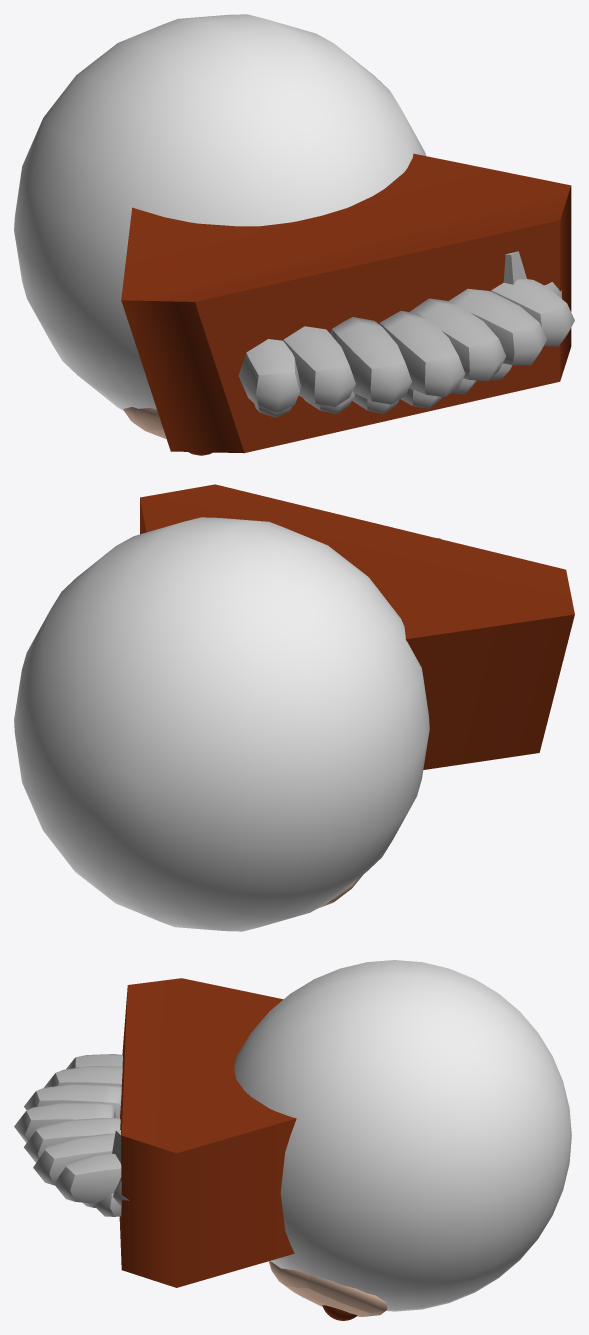
File: bolitas72.fbx
3 views of the same model, one above another, from view 1: azimuth 30°, elevation 25°; view 2: azimuth 150°, elevation 25°; view 3: azimuth 270°, elevation 25° (orthographic). The views are drawn at different scales.
Visible parts, largest first — view 1: pasted__pSphere16, pasted__pCube13, pasted__pasted__pasted__pasted__pasted__pasted__pCube11, pasted__pasted__pasted__pasted__pasted__pasted__pasted__pCub, pasted__pasted__pasted__pasted__pasted__pCube13, pasted__pasted__pasted__pasted__pasted__pasted__pasted__d67c, pasted__pasted__pasted__pasted__pasted__pasted__pasted__6f63, pasted__pasted__pasted__pasted__pCube8.001, pasted__pasted__pasted__pasted__pasted__pasted__pasted__3265, pasted__pCube14, pasted__pasted__pasted__pasted__pasted__pasted__pasted__19e3; view 2: pasted__pSphere16, pasted__pCube13; view 3: pasted__pSphere16, pasted__pCube13, pasted__pCube14, pasted__pasted__pasted__pasted__pasted__pasted__pasted__3265, pasted__pasted__pasted__pasted__pasted__pasted__pasted__6f63, pasted__pasted__pasted__pasted__pasted__pasted__pasted__pCub, pasted__pasted__pasted__pasted__pasted__pasted__pasted__d67c, pasted__pasted__pasted__pasted__pasted__pasted__pCube11, pasted__pasted__pasted__pasted__pasted__pCube13, pasted__pasted__pasted__pasted__pCube8.001.
Boxes of the visible parts, x1=… form: pasted__pSphere16: x1=14, y1=14, x2=426, y2=410; pasted__pCube13: x1=121, y1=153, x2=571, y2=453; pasted__pasted__pasted__pasted__pasted__pasted__pCube11: x1=330, y1=317, x2=411, y2=404; pasted__pasted__pasted__pasted__pasted__pasted__pasted__pCub: x1=379, y1=311, x2=465, y2=397; pasted__pasted__pasted__pasted__pasted__pCube13: x1=283, y1=326, x2=355, y2=406; pasted__pasted__pasted__pasted__pasted__pasted__pasted__d67c: x1=410, y1=298, x2=506, y2=381; pasted__pasted__pasted__pasted__pasted__pasted__pasted__6f63: x1=449, y1=288, x2=546, y2=365; pasted__pasted__pasted__pasted__pCube8.001: x1=238, y1=339, x2=300, y2=412; pasted__pasted__pasted__pasted__pasted__pasted__pasted__3265: x1=491, y1=279, x2=574, y2=346; pasted__pCube14: x1=123, y1=407, x2=166, y2=439; pasted__pasted__pasted__pasted__pasted__pasted__pasted__19e3: x1=503, y1=251, x2=526, y2=284; pasted__pSphere16: x1=14, y1=517, x2=429, y2=931; pasted__pCube13: x1=140, y1=484, x2=574, y2=769; pasted__pSphere16: x1=234, y1=960, x2=571, y2=1311; pasted__pCube13: x1=119, y1=978, x2=296, y2=1287; pasted__pCube14: x1=268, y1=1261, x2=387, y2=1316; pasted__pasted__pasted__pasted__pasted__pasted__pasted__3265: x1=54, y1=1152, x2=121, y2=1203; pasted__pasted__pasted__pasted__pasted__pasted__pasted__6f63: x1=33, y1=1133, x2=114, y2=1185; pasted__pasted__pasted__pasted__pasted__pasted__pasted__pCub: x1=14, y1=1102, x2=115, y2=1142; pasted__pasted__pasted__pasted__pasted__pasted__pasted__d67c: x1=24, y1=1118, x2=120, y2=1162; pasted__pasted__pasted__pasted__pasted__pasted__pCube11: x1=24, y1=1084, x2=121, y2=1118; pasted__pasted__pasted__pasted__pasted__pCube13: x1=44, y1=1066, x2=122, y2=1087; pasted__pasted__pasted__pasted__pCube8.001: x1=66, y1=1054, x2=122, y2=1069.
Bounding box in the file's own units: 2.44 × 2.02 × 3.18.
